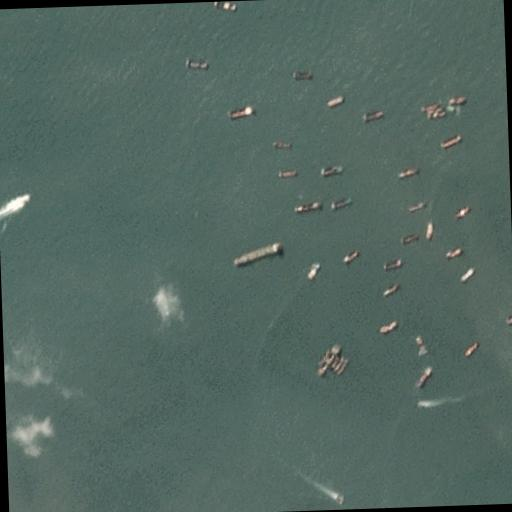ship: (148, 285, 187, 329), (230, 244, 282, 268), (314, 344, 341, 378), (227, 105, 256, 121), (414, 366, 433, 388), (293, 200, 322, 213), (212, 0, 236, 14), (186, 57, 208, 71), (376, 320, 396, 335), (331, 196, 351, 211), (463, 340, 480, 357), (320, 165, 344, 177), (304, 262, 320, 280), (441, 134, 461, 148), (334, 359, 350, 376), (381, 283, 399, 297), (316, 350, 330, 366), (396, 167, 418, 177), (460, 267, 474, 282), (361, 111, 382, 121), (383, 258, 402, 269), (342, 250, 358, 263), (406, 202, 426, 212), (272, 140, 292, 150), (326, 95, 344, 106), (16, 194, 30, 208), (424, 222, 434, 240), (292, 72, 312, 81), (401, 234, 418, 244), (332, 358, 344, 372), (454, 206, 468, 218), (277, 170, 297, 178), (329, 356, 340, 368), (334, 494, 346, 504), (414, 400, 430, 407), (31, 414, 31, 460)
